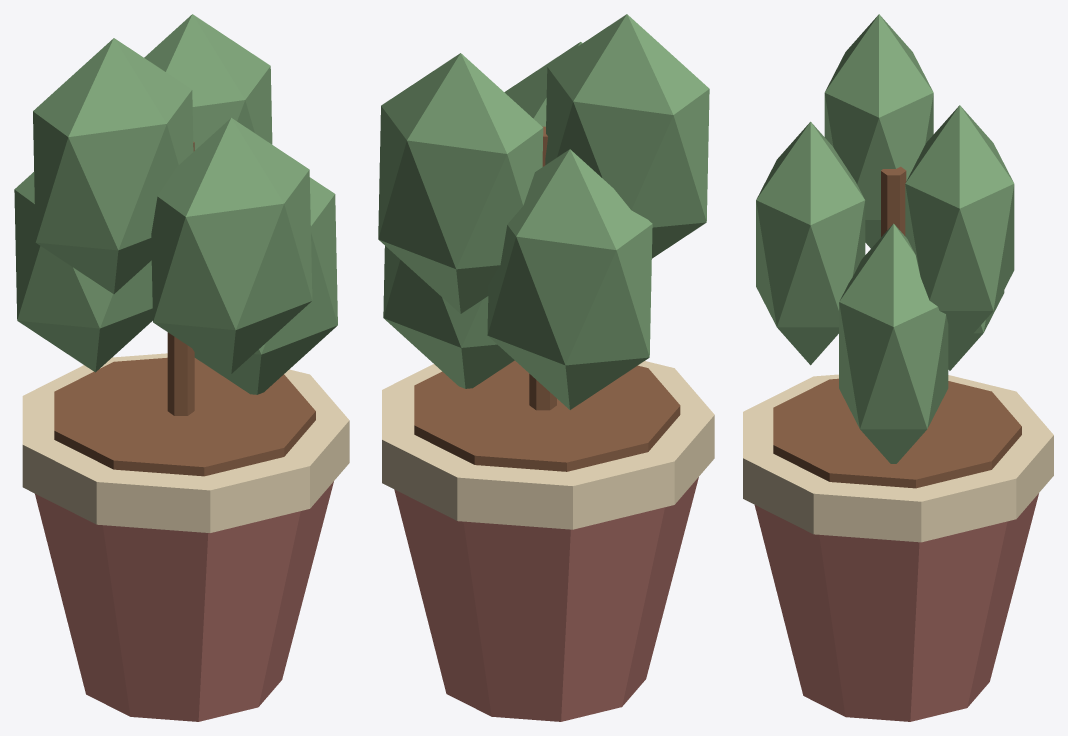
The model's file is SM_CH_Paper_Plant.fbx.
3 renders of one model, left to right at view 1: azimuth 30°, elevation 25°; view 2: azimuth 150°, elevation 25°; view 3: azimuth 270°, elevation 25°, orthographic. The views are drawn at different scales.
Visible parts, largest first — view 1: SM_CH_Paper_Plant; view 2: SM_CH_Paper_Plant; view 3: SM_CH_Paper_Plant.
Boxes of the visible parts, bbox=[...] form: SM_CH_Paper_Plant: bbox=[14, 14, 349, 721]; SM_CH_Paper_Plant: bbox=[378, 14, 714, 721]; SM_CH_Paper_Plant: bbox=[743, 14, 1053, 721].
Bounding box in the file's own units: 5263 × 4849 × 10900.
